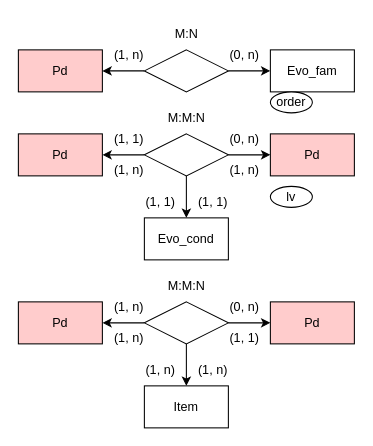
Image size: 373x446. Some labels were removed from this diagram. The shapes that lost their labels are listed below. From the top down, each one's centre as x and y in pixels, then its label:
At point (185, 70): "has linage".
At point (185, 154): "evolves".
At point (185, 322): "becomes baby".
